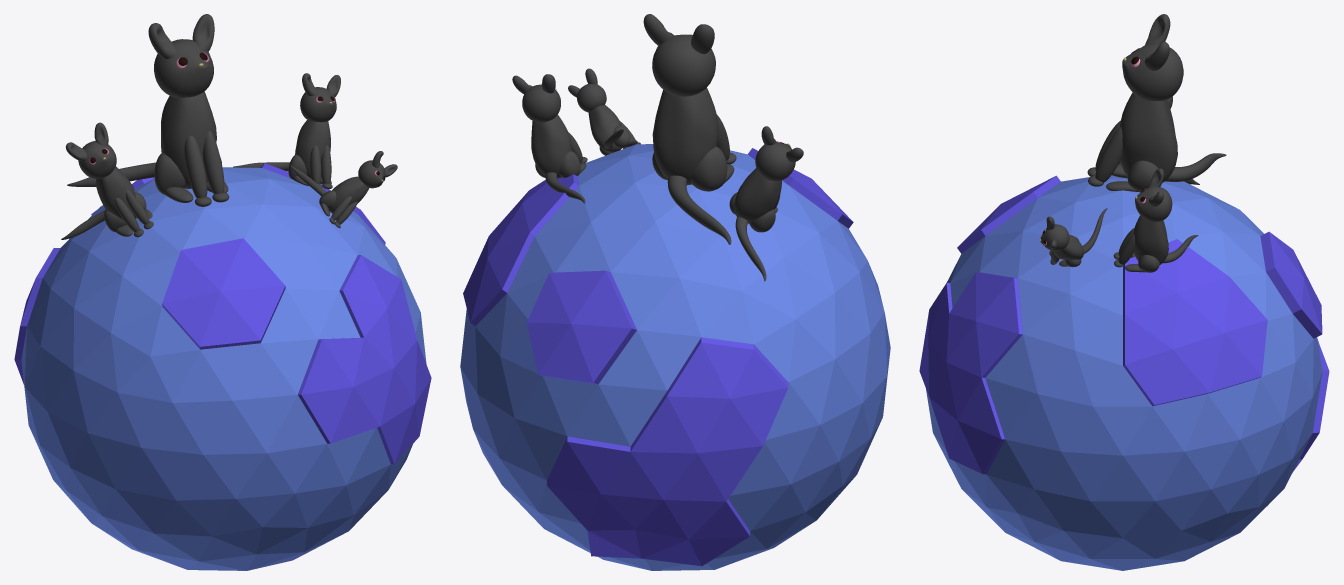
File: kedygezegen.fbx
3 views of the same model, side by side, from view 1: azimuth 30°, elevation 25°; view 2: azimuth 150°, elevation 25°; view 3: azimuth 270°, elevation 25° (orthographic). The views are drawn at different scales.
Visible parts, largest first — view 1: Icosphere.001; view 2: Icosphere.001; view 3: Icosphere.001.
Part boxes in pixels (left/top/right/bottom): Icosphere.001: left=14, top=14, right=431, bottom=570; Icosphere.001: left=460, top=14, right=890, bottom=570; Icosphere.001: left=919, top=14, right=1329, bottom=570.
Bounding box in the file's own units: 974 × 1385 × 1000.
